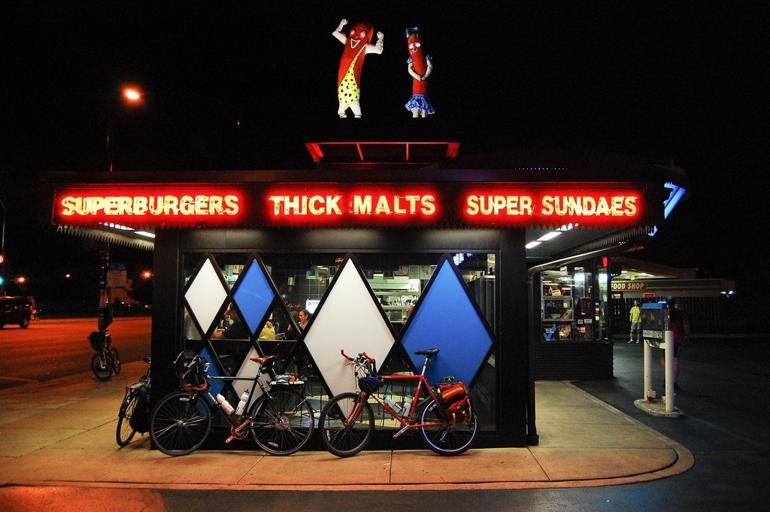non-vehicle: (149, 352, 316, 456), (318, 346, 480, 452), (113, 353, 155, 446), (84, 326, 126, 381)
